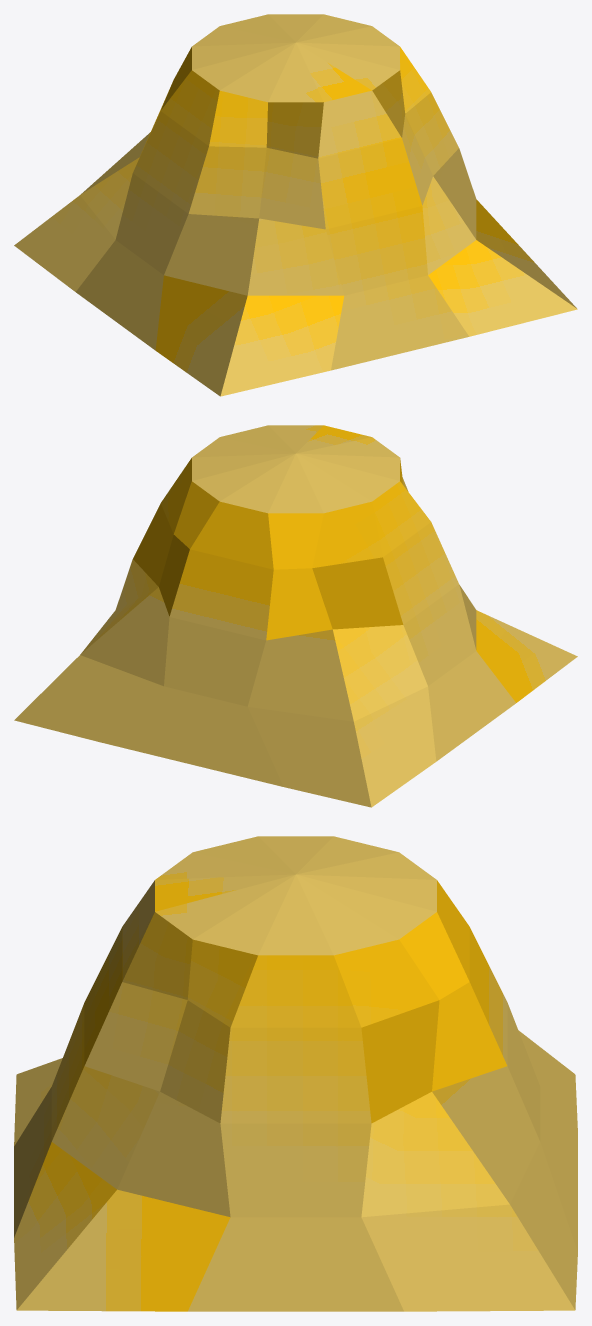
The model's file is island.model.gltf.
3 views of the same model, one above another, from view 1: azimuth 30°, elevation 25°; view 2: azimuth 150°, elevation 25°; view 3: azimuth 270°, elevation 25° (orthographic). The views are drawn at different scales.
Parts seen in each view (by area): view 1: sphere; view 2: sphere; view 3: sphere.
Boxes of the visible parts, left/top/right/bottom form: sphere: left=14, top=14, right=577, bottom=396; sphere: left=14, top=425, right=577, bottom=807; sphere: left=14, top=836, right=577, bottom=1311.
Size of the model in its own units: 1 by 0.625 by 1.
1 material, 1 textured.
